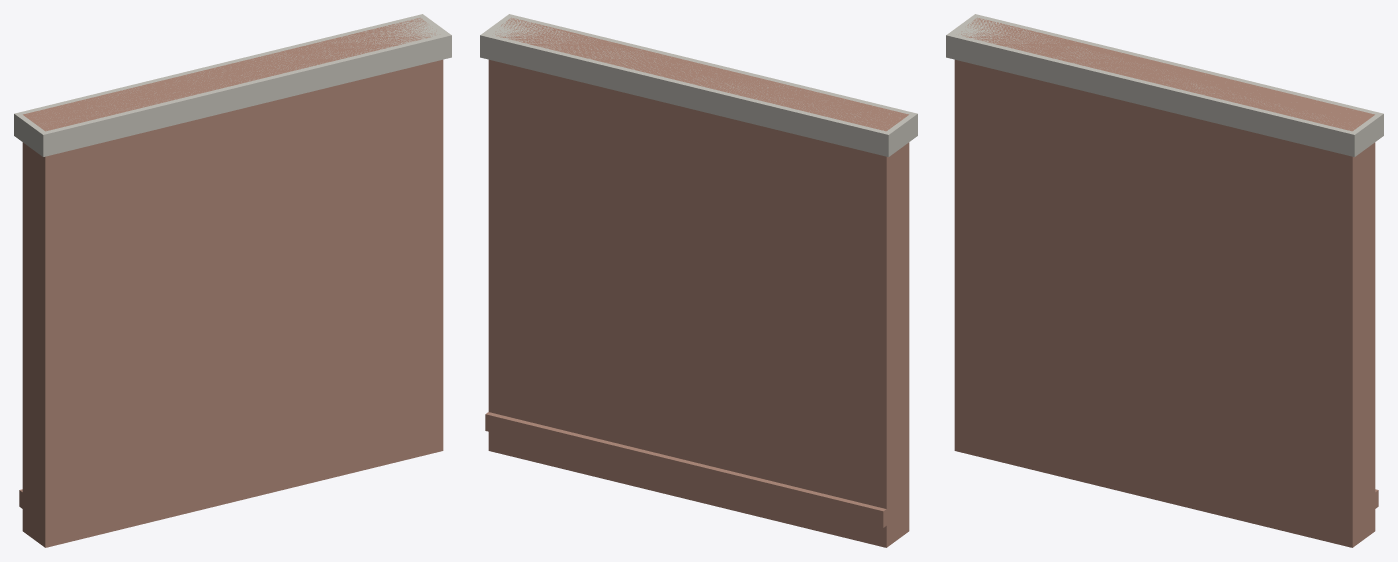
The model's file is iz3_neighborhood_cephe_taş.glb.
The picture shows the model from 3 angles, left to right: view 1: azimuth 30°, elevation 25°; view 2: azimuth 150°, elevation 25°; view 3: azimuth 330°, elevation 25°; orthographic projection.
Visible parts, largest first — view 1: wall, cornice; view 2: wall, cornice, sill; view 3: wall, cornice.
Part boxes in pixels (x1,y1,x2,y2): wall: (22, 17, 443, 547); cornice: (14, 14, 451, 156); wall: (488, 17, 909, 547); cornice: (480, 14, 917, 156); sill: (485, 412, 886, 527); wall: (954, 17, 1375, 547); cornice: (946, 14, 1383, 156).
Bounding box in the file's own units: 3.08 × 3 × 0.38.
